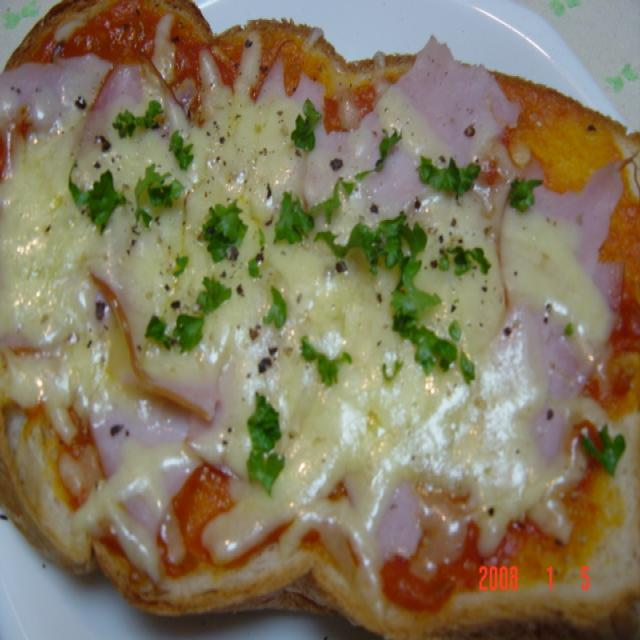面包点心: (8, 11, 620, 610)
